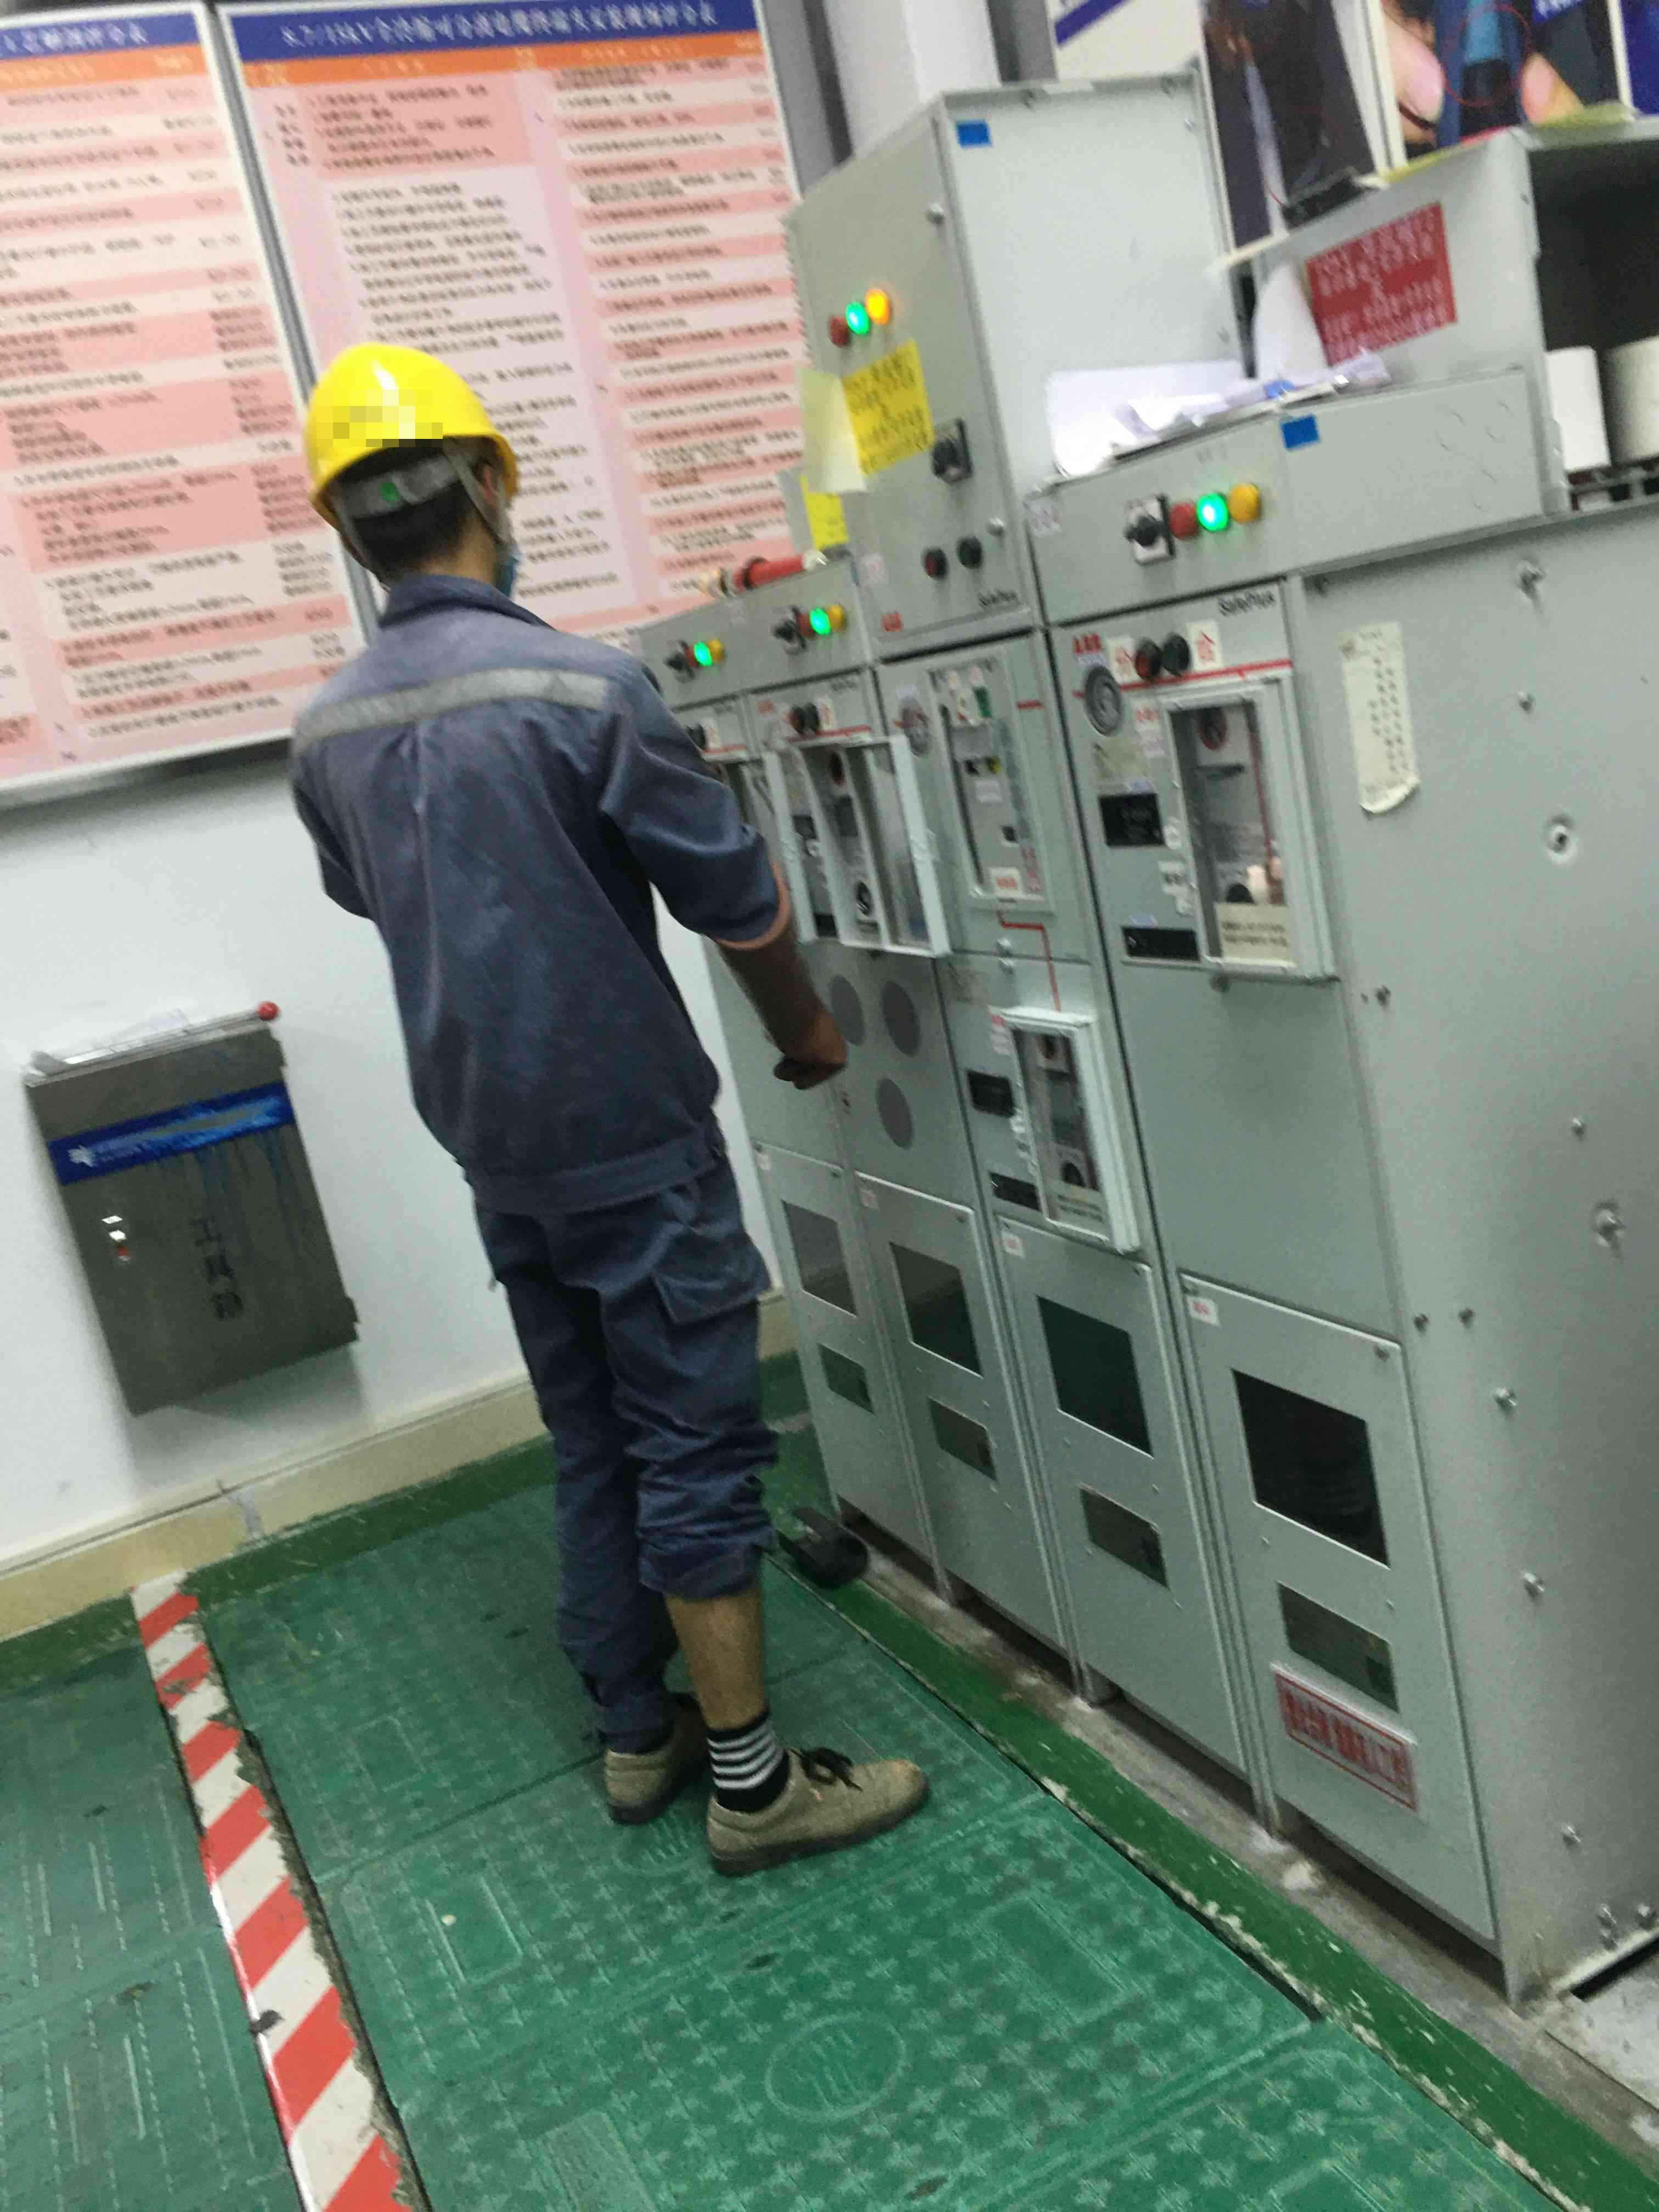downsuit: (476, 1202, 786, 1738)
upsuit: (284, 570, 788, 1202)
wrongbottom: (629, 1482, 786, 1738)
